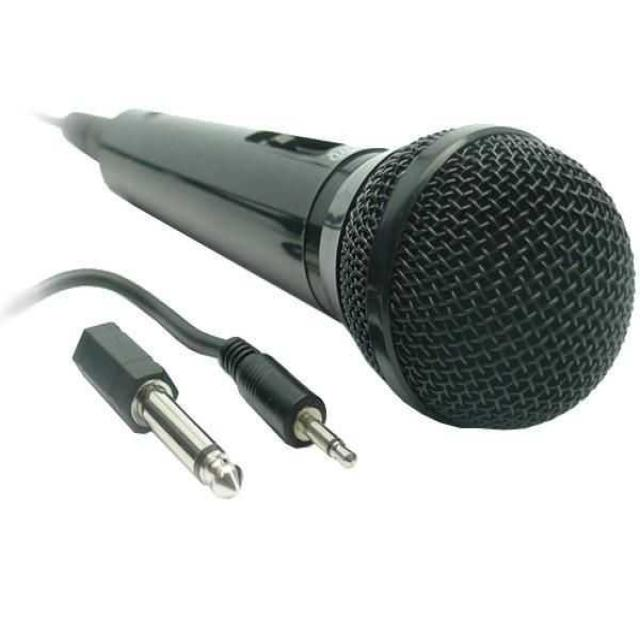microphone: (71, 40, 640, 434)
